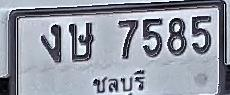5: (142, 18, 162, 57), (192, 15, 212, 54)
7: (118, 19, 138, 59)
8: (167, 17, 187, 55)
A07: (40, 24, 62, 63)
A39: (68, 22, 94, 62)
CBI: (88, 65, 150, 95)
